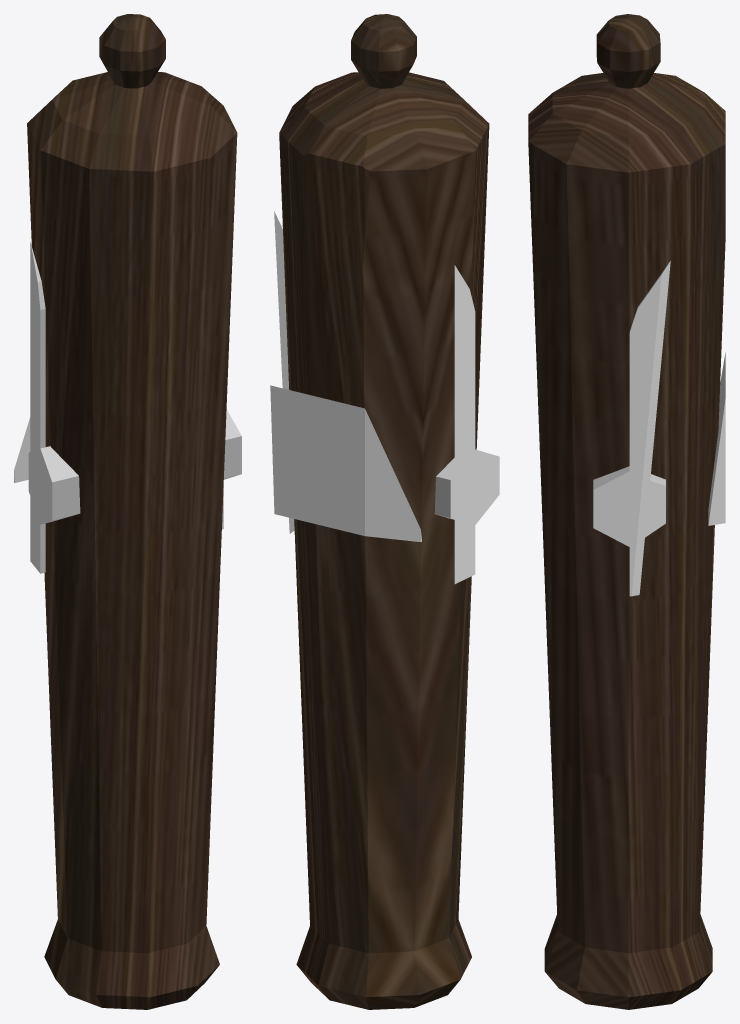
File: canonmadera.obj
3 views of the same model, side by side, from view 1: azimuth 30°, elevation 25°; view 2: azimuth 150°, elevation 25°; view 3: azimuth 270°, elevation 25° (orthographic).
Parts seen in each view (by area): view 1: Object.1, Object.2, Object.5, Object.4; view 2: Object.1, Object.4, Object.2, Object.5, Object.3; view 3: Object.1, Object.3, Object.5, Object.4.
Boxes of the visible parts, <box> form: Object.1: <box>27,14,237,1009</box>; Object.2: <box>30,242,45,573</box>; Object.5: <box>28,409,241,524</box>; Object.4: <box>14,417,30,482</box>; Object.1: <box>279,14,489,1009</box>; Object.4: <box>270,385,421,542</box>; Object.2: <box>454,265,475,583</box>; Object.5: <box>434,449,499,524</box>; Object.3: <box>274,211,294,533</box>; Object.1: <box>528,14,725,1009</box>; Object.3: <box>629,261,670,596</box>; Object.5: <box>593,466,665,546</box>; Object.4: <box>708,352,725,525</box>.
Size of the model in its own units: 772 by 3748 by 697.
